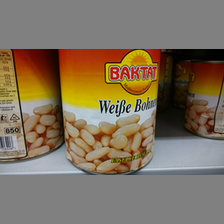beans: (59, 48, 159, 174), (1, 50, 56, 163), (185, 60, 224, 144)
